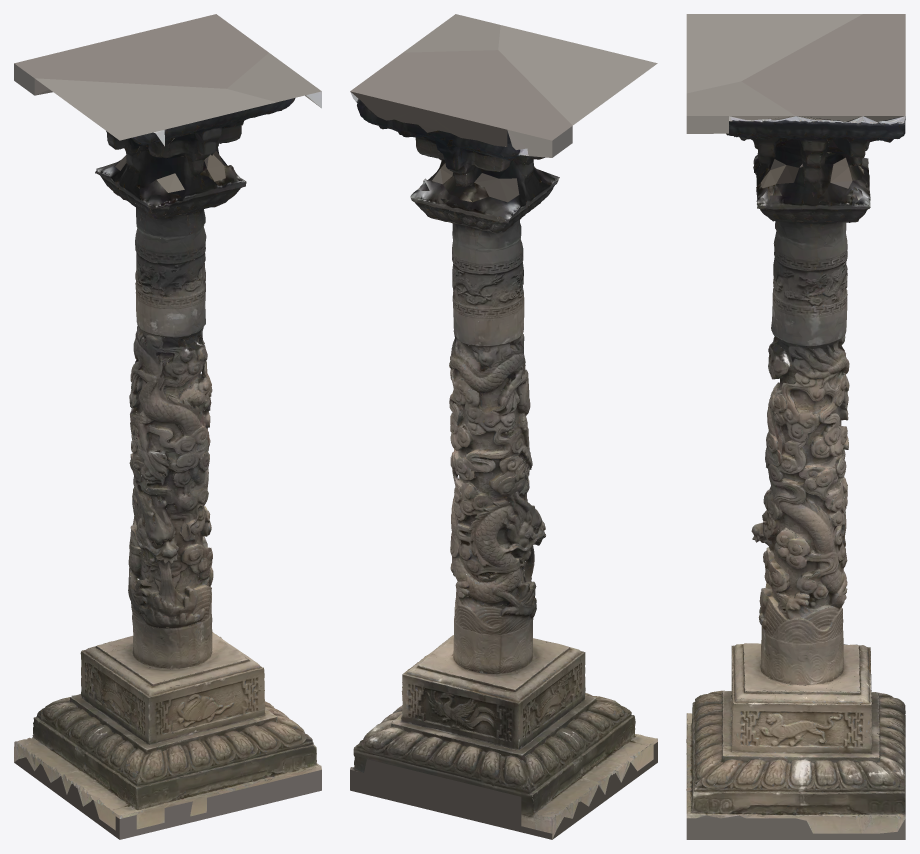
The model's file is pillar_dragon_02.glb.
The picture shows the model from 3 angles, left to right: view 1: azimuth 30°, elevation 25°; view 2: azimuth 150°, elevation 25°; view 3: azimuth 270°, elevation 25°; orthographic projection. The views are drawn at different scales.
Visible parts, largest first — view 1: Object_2; view 2: Object_2; view 3: Object_2.
Part boxes in pixels (left/top/right/bottom): Object_2: left=14, top=14, right=321, bottom=839; Object_2: left=350, top=14, right=657, bottom=839; Object_2: left=686, top=14, right=905, bottom=839.
Bounding box in the file's own units: 14.27 × 46.86 × 12.89.
Materials: 1 (1 with a texture image).
